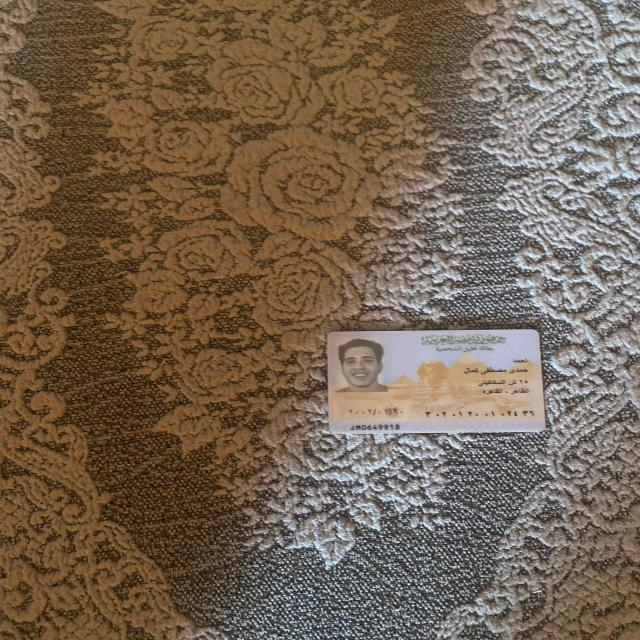id_card: (319, 325, 558, 443)
